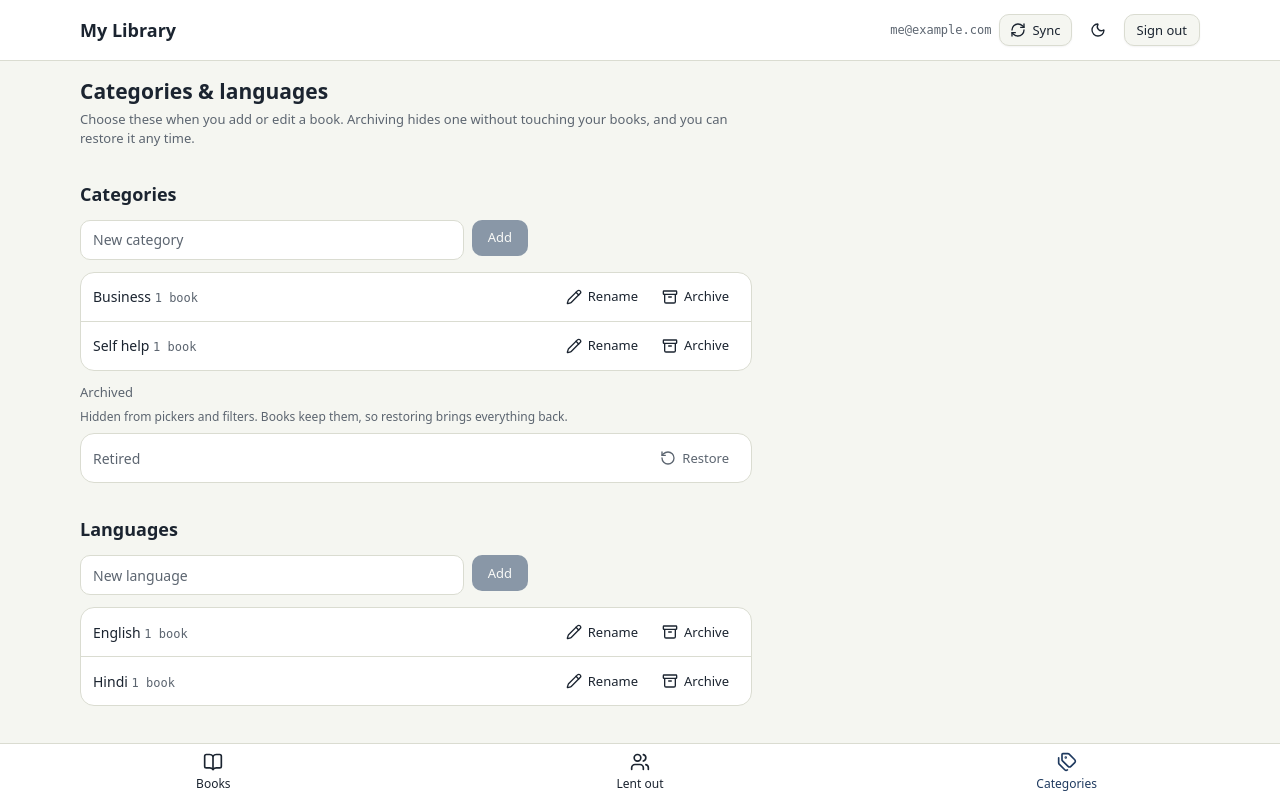
Test case: Categories & languages page › a rename into an existing name shows the reason, keeps the editor open, and changes nothing
This screenshot has width=1280, height=800.
Expected: the list named "Active categories" is shown, [80,272,752,370]
Step 1. Click the button with aria-label "Rename Self help" → (602,346), box [556,330,648,362]
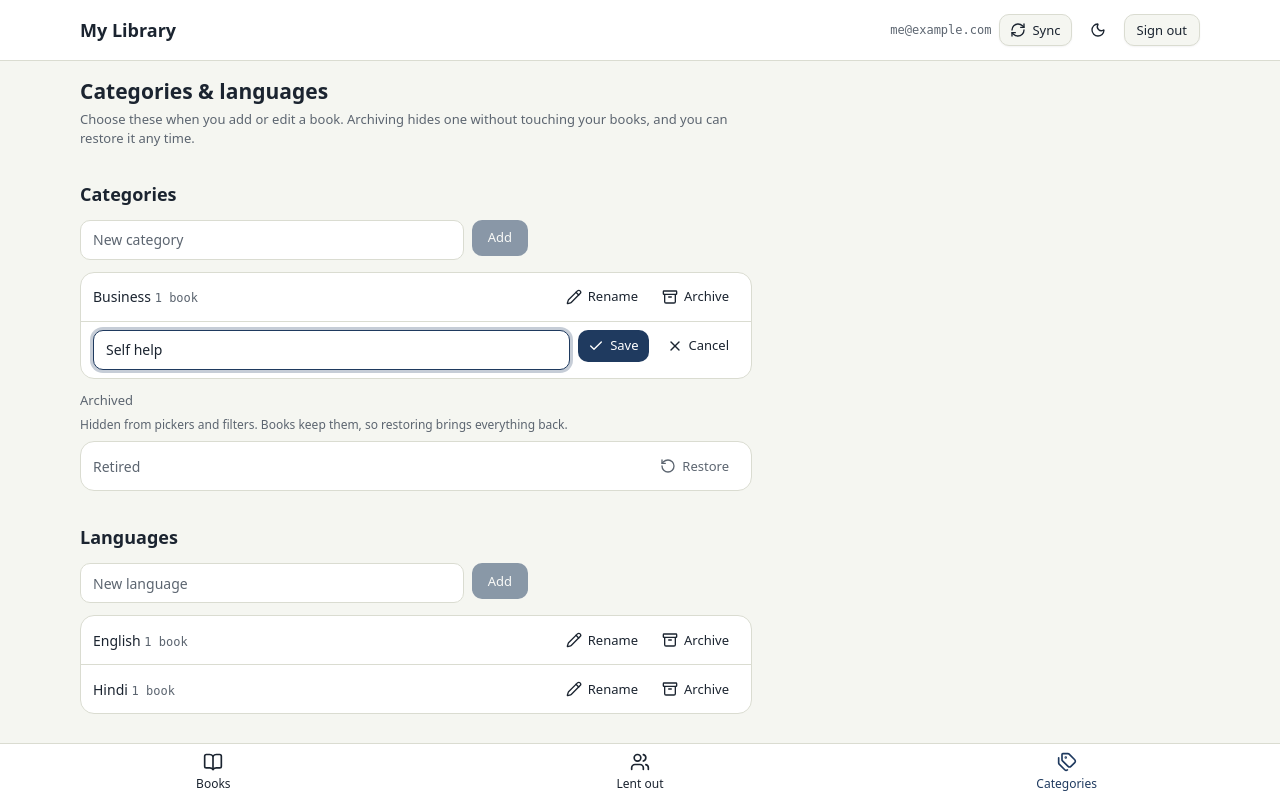
Step 2. Replace the text in the field named "New name for Self help" with "Business" → (332,350), box [93,330,570,370]
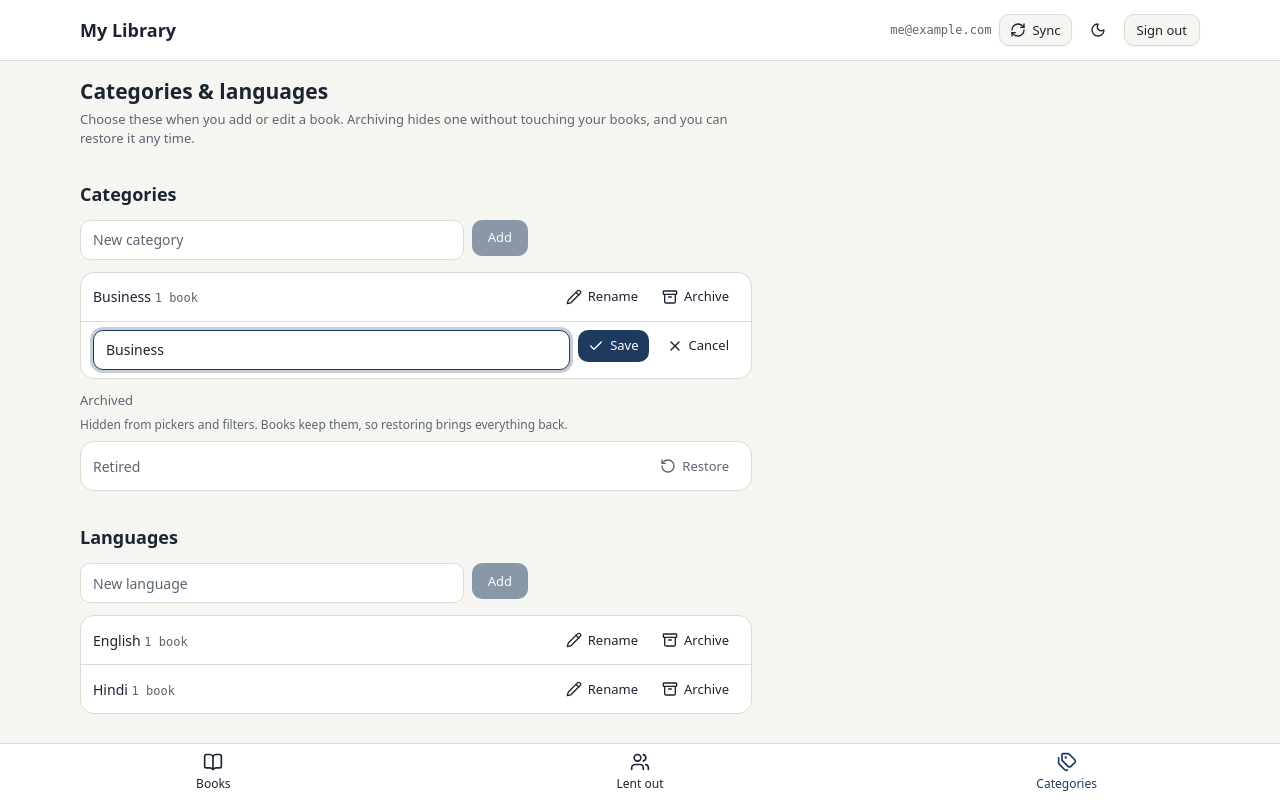
Step 3. Click the button with aria-label "Save name for Self help" → (613,346), box [578,330,648,362]
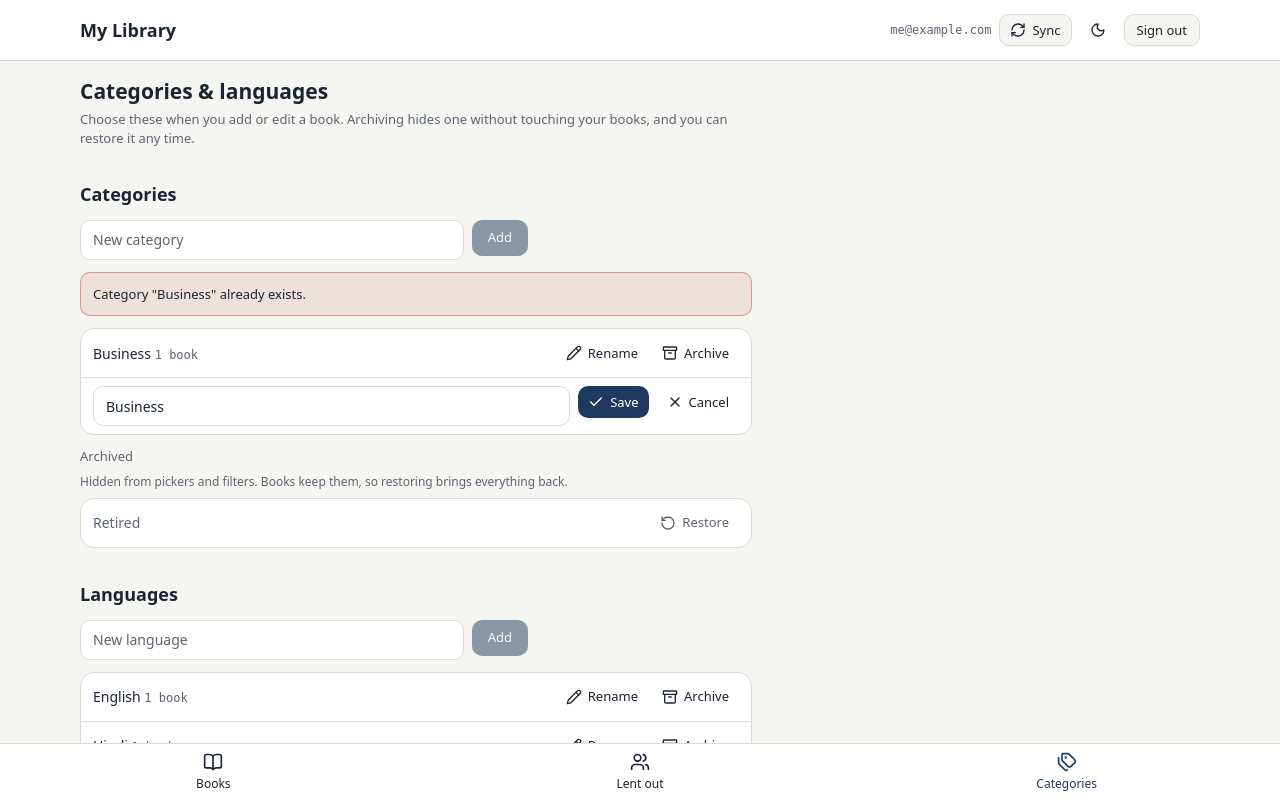
Result: the message shows "already exists" at [93,284,306,302]
